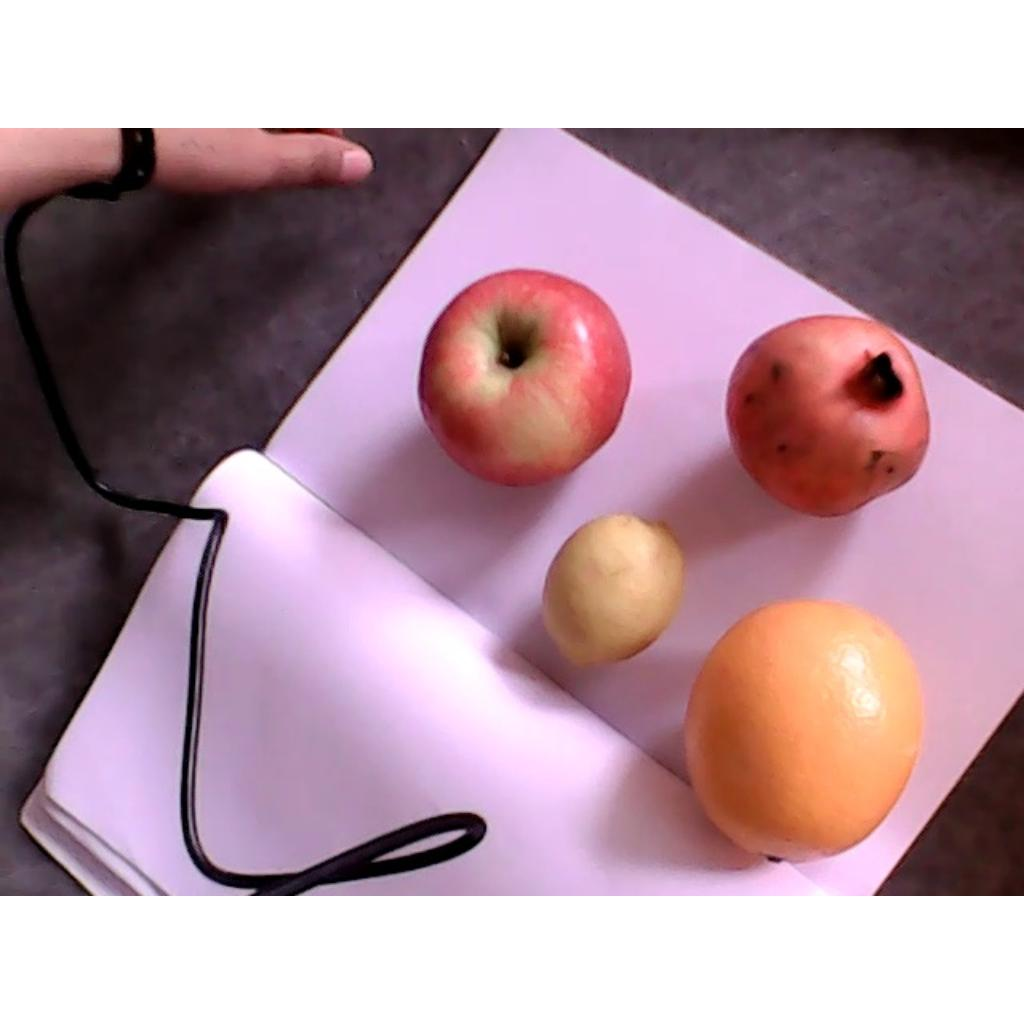apple: (421, 270, 632, 487)
lemon: (541, 515, 685, 667)
orange: (685, 595, 923, 867)
pomegranate: (724, 317, 929, 519)
